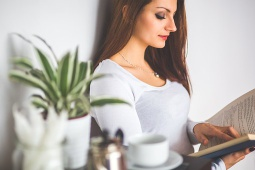female: (130, 2, 188, 51)
